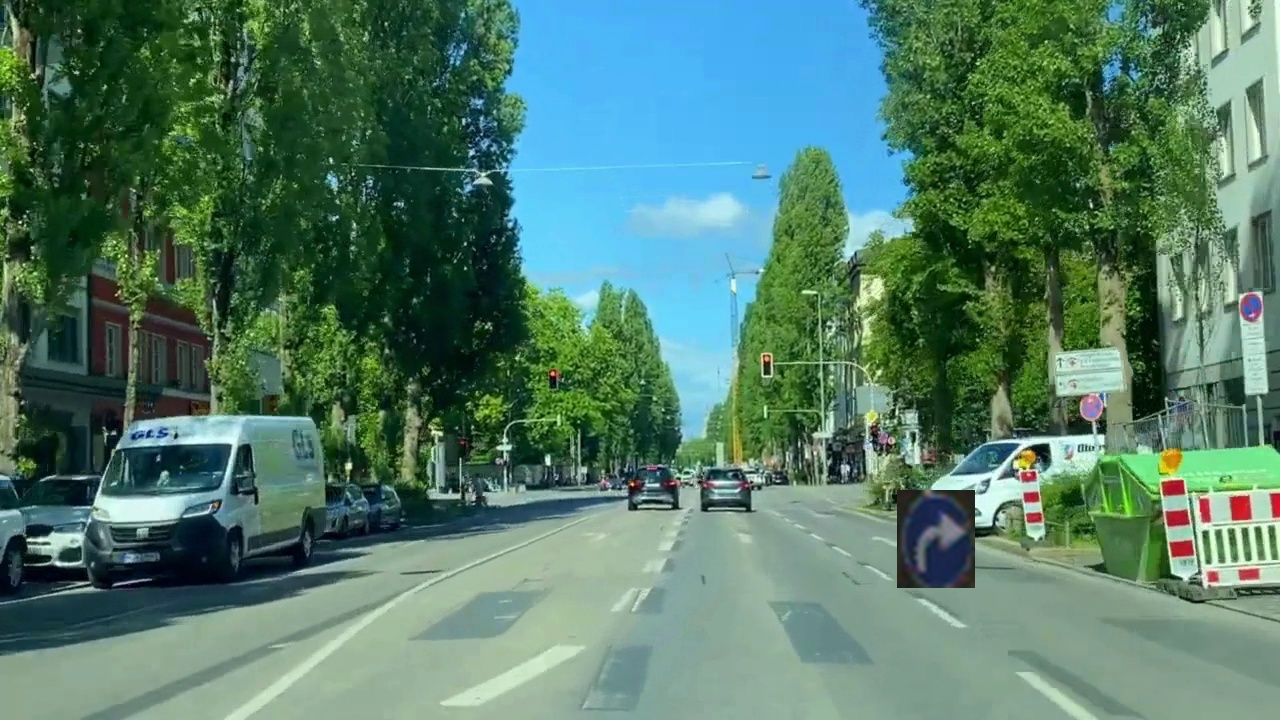Turn right: (897, 490, 975, 588)
